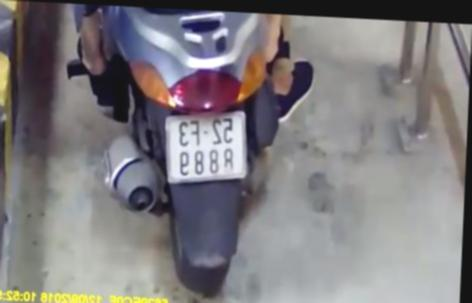License_Plate: (160, 101, 260, 196)
